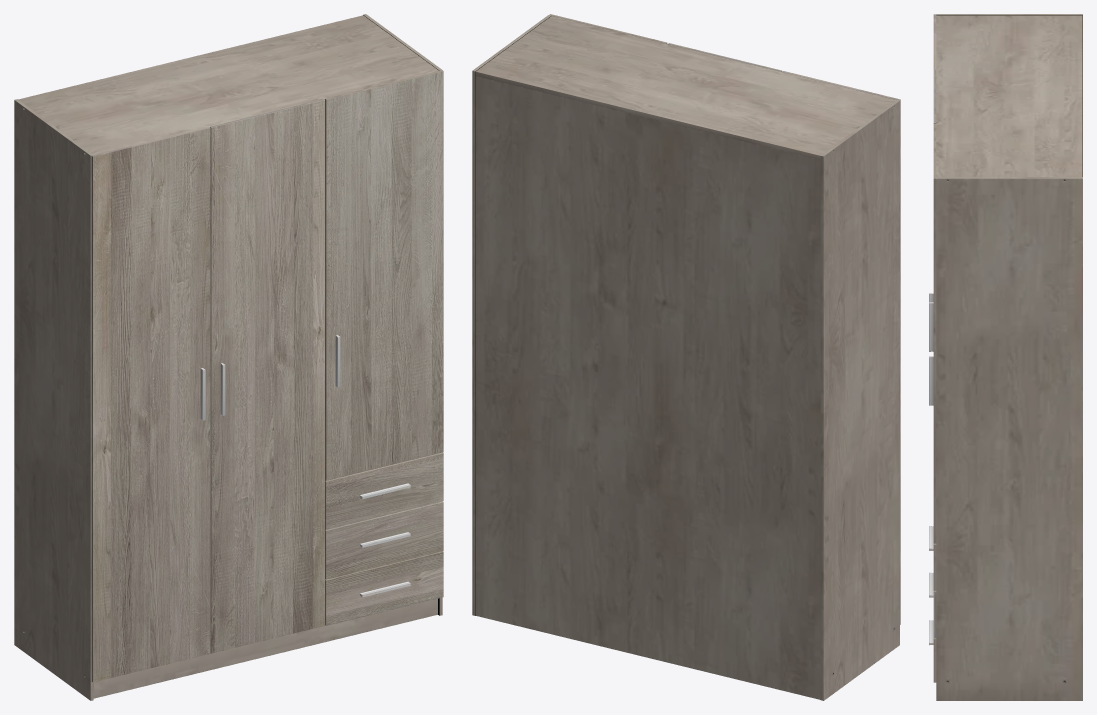
Rendered from abo-B07GFW9GFX.glb.
3 views of the same model, side by side, from view 1: azimuth 30°, elevation 25°; view 2: azimuth 150°, elevation 25°; view 3: azimuth 270°, elevation 25° (orthographic). The views are drawn at different scales.
Bounding box in the file's own units: 1.29 × 1.91 × 0.5101.
Materials: 1 (1 with a texture image).
